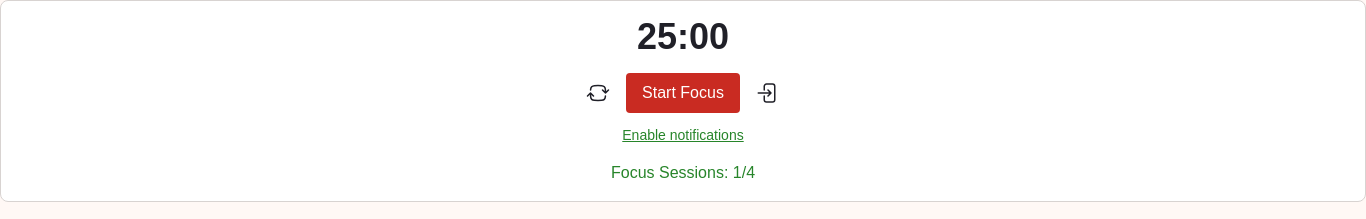
Scenario: Timer Component › starts timer on button click
Click the button "Start Focus": (683, 93) [626,73,740,113]
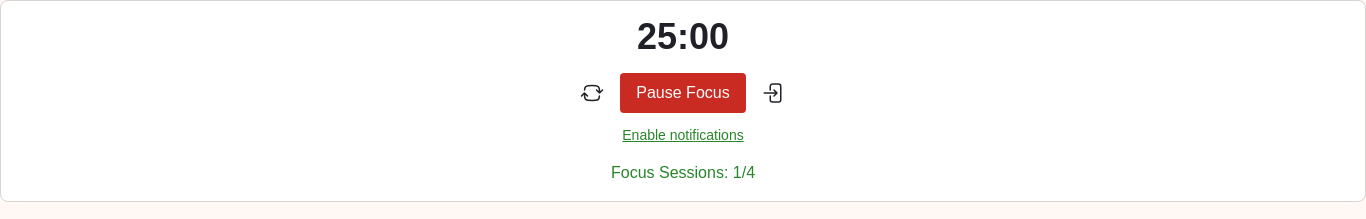
Result: the button named "Start Focus" reads "Pause Focus" at [620,73,746,113]
